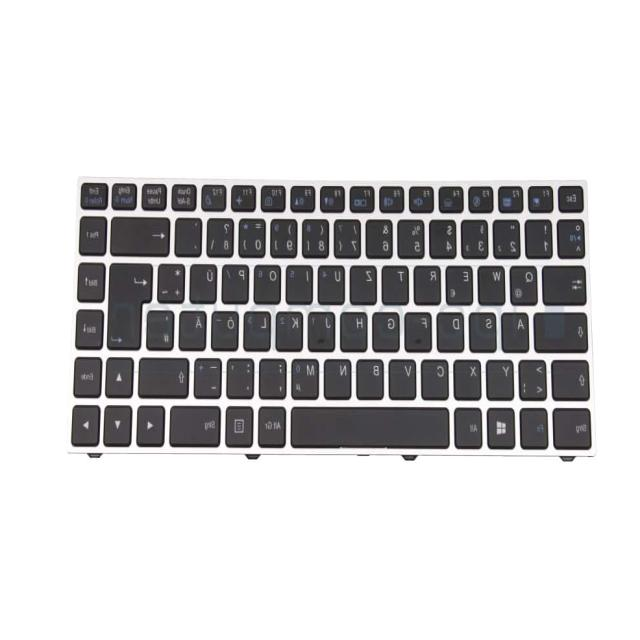0: (240, 215, 268, 256)
1: (527, 216, 555, 257)
2: (495, 216, 523, 256)
3: (463, 216, 491, 256)
4: (432, 216, 460, 256)
5: (400, 216, 428, 256)
6: (368, 216, 396, 256)
7: (335, 216, 363, 257)
8: (304, 216, 332, 256)
9: (272, 215, 300, 256)
a: (504, 309, 532, 349)
accent: (177, 214, 205, 254)
ae: (181, 306, 209, 348)
alt-left: (457, 403, 486, 445)
altgr-right: (261, 402, 289, 444)
b: (359, 355, 387, 397)
c: (424, 355, 452, 397)
caret: (560, 215, 588, 256)
comma: (261, 354, 289, 396)
d: (440, 308, 468, 350)
del: (112, 212, 172, 253)
e: (448, 262, 476, 303)
enter: (111, 257, 157, 347)
f: (407, 308, 435, 349)
g: (375, 308, 403, 349)
h: (343, 308, 371, 349)
hash: (149, 306, 177, 348)
i: (287, 262, 315, 302)
j: (310, 307, 338, 349)
k: (278, 307, 306, 349)
keyboard: (65, 174, 601, 460)
l: (246, 307, 274, 348)
less: (521, 355, 550, 398)
m: (293, 355, 322, 397)
minus: (196, 354, 225, 396)
n: (326, 355, 354, 397)
o: (256, 261, 284, 302)
oe: (214, 307, 242, 348)
p: (224, 261, 252, 302)
plus: (160, 259, 188, 300)
point: (228, 354, 257, 396)
q: (512, 262, 540, 303)
r: (416, 262, 444, 302)
s: (471, 308, 499, 350)
shift-left: (555, 355, 594, 398)
shift-lock: (536, 308, 591, 349)
shift-right: (141, 353, 193, 395)
space: (294, 402, 452, 445)
ss: (209, 214, 237, 255)
strg-left: (555, 403, 596, 446)
strg-right: (172, 402, 225, 444)
t: (384, 262, 412, 302)
tab: (545, 261, 589, 302)
u: (320, 262, 348, 303)
ue: (192, 260, 220, 302)
v: (391, 355, 419, 397)
w: (481, 261, 509, 303)
x: (456, 355, 484, 398)
y: (488, 356, 516, 399)
z: (352, 261, 380, 302)
